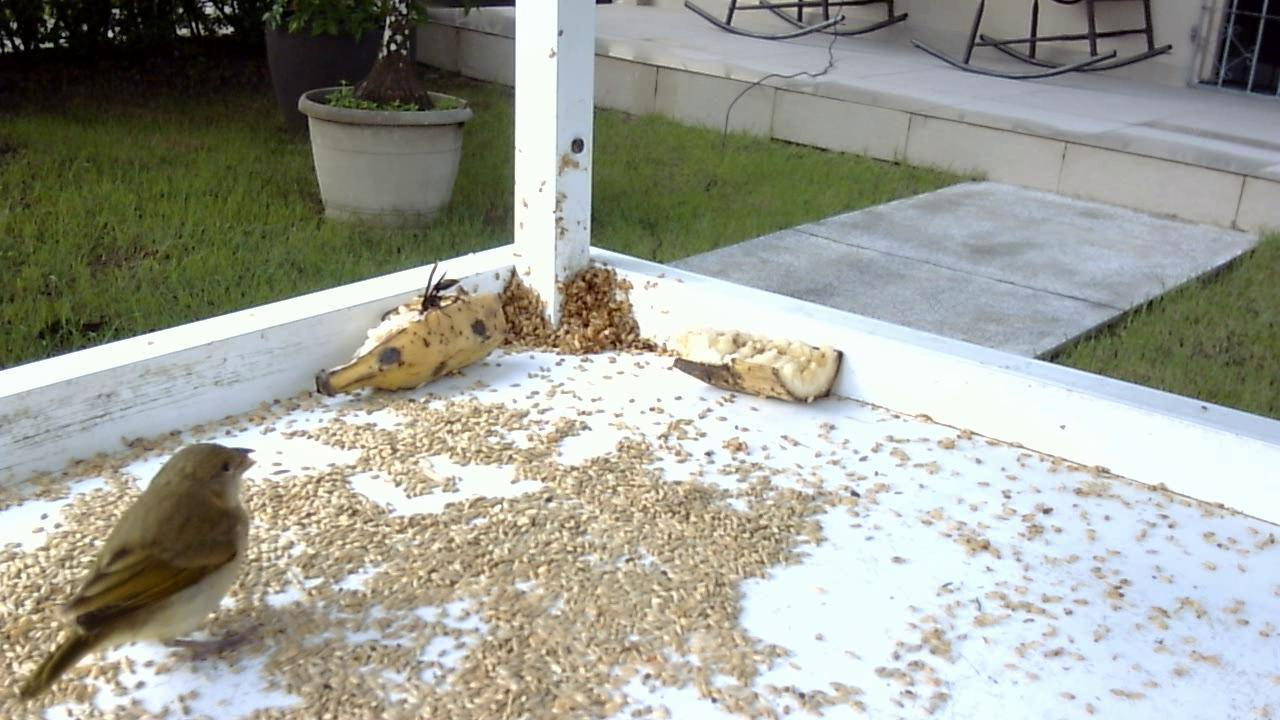canario_do_amazonas: (14, 439, 272, 704)
